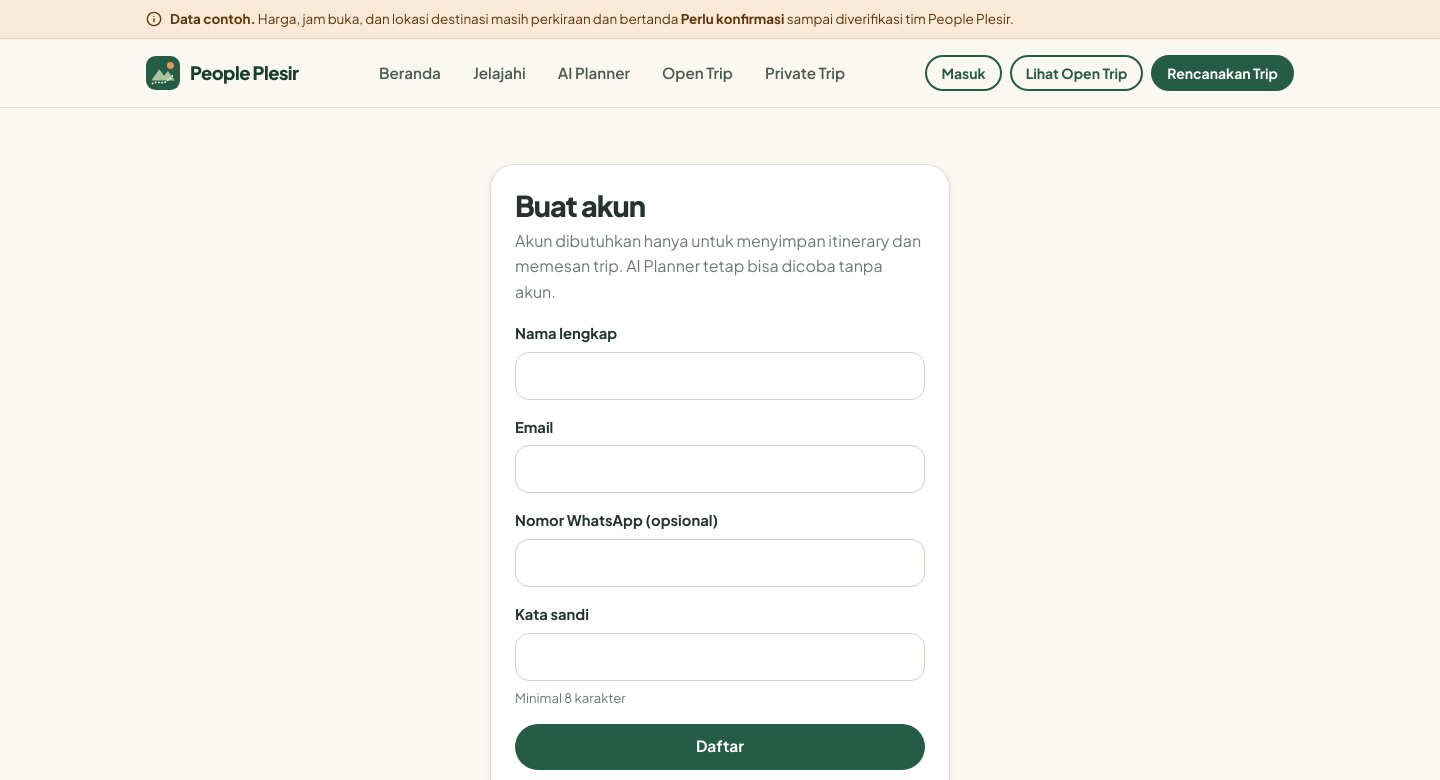
Test: formulir masuk dan daftar › validasi sisi klien sebelum mengirim
Click the button "Daftar" at [720, 747], box [515,724,925,770]
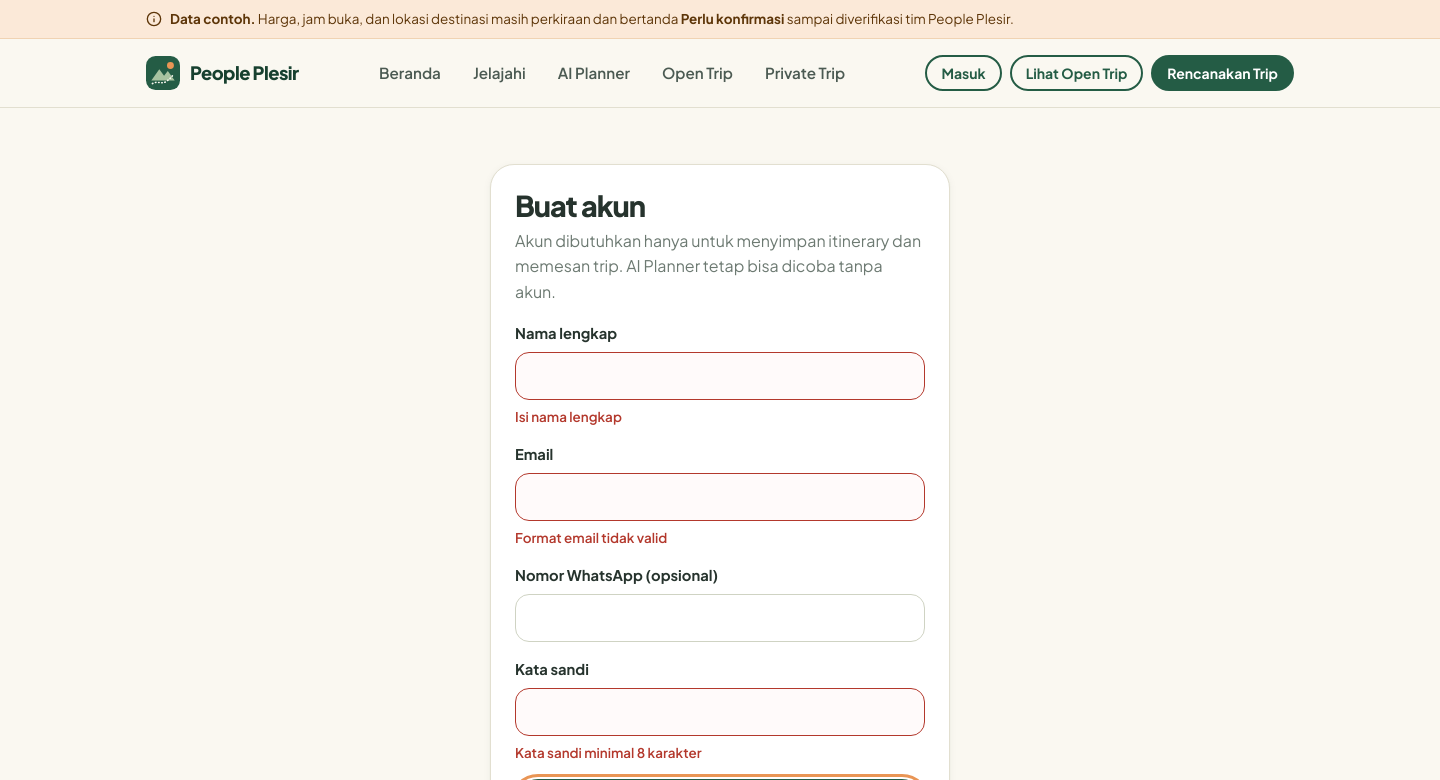
Expected: the text "Kata sandi minimal 8 karakter" is shown, [515,744,702,761]
Now the text "Isi nama lengkap" is shown, box [515,408,622,425]
Now the text "Format email tidak valid" is shown, box [515,529,667,546]
